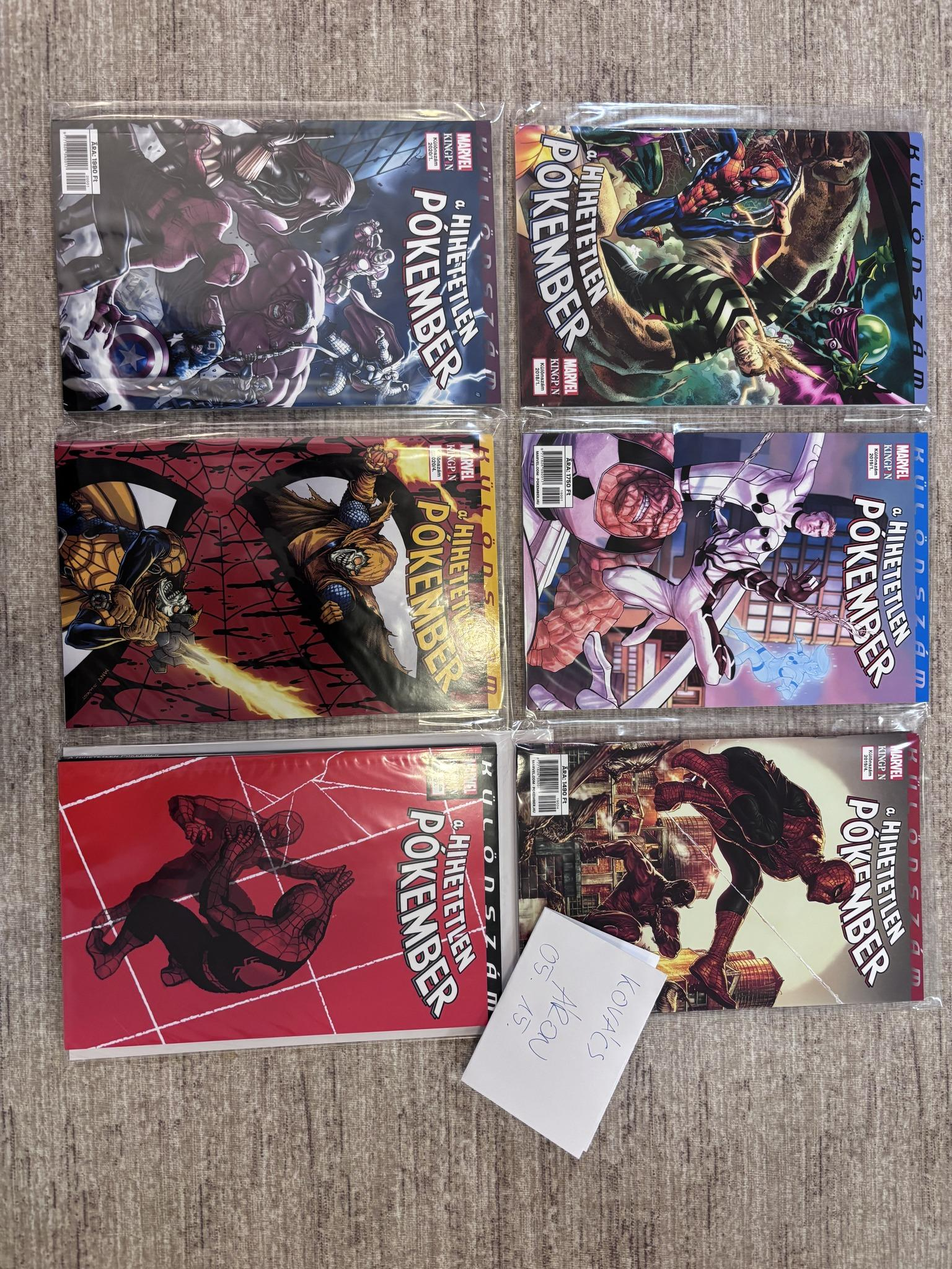comic: (55, 743, 506, 1057), (52, 112, 500, 411), (56, 432, 503, 727), (515, 108, 925, 405), (516, 733, 925, 1015), (523, 431, 927, 709)
